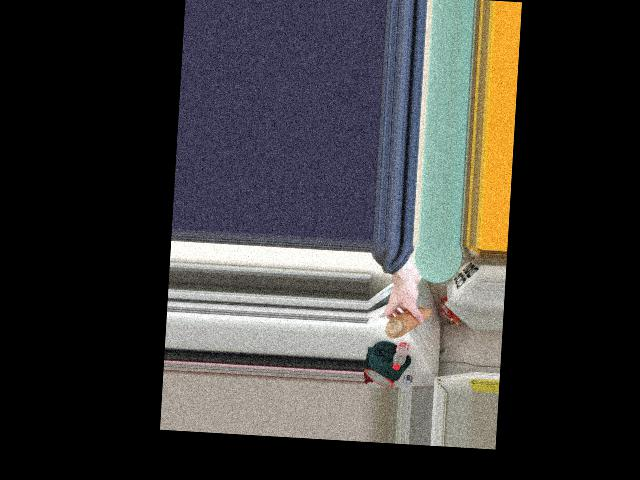sweet_potato: (385, 306, 432, 341)
